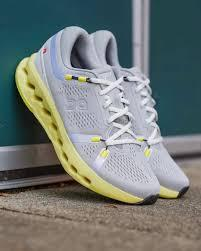OC_logo: (54, 92, 94, 122)
